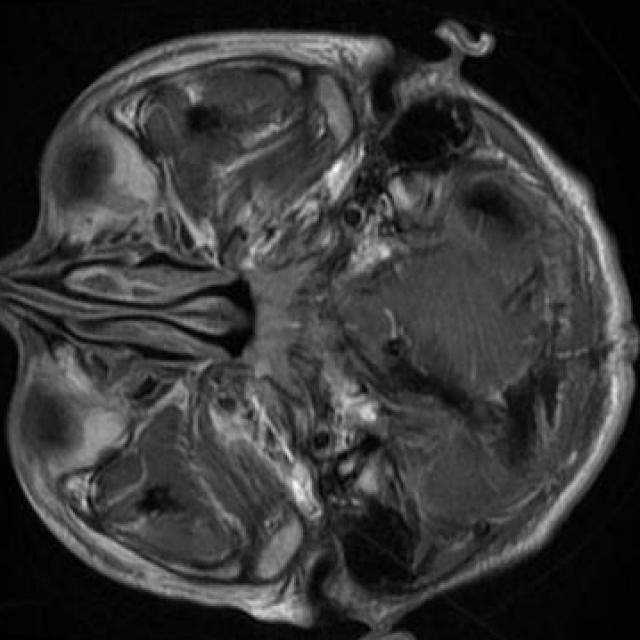glioma: (382, 333, 474, 417)
